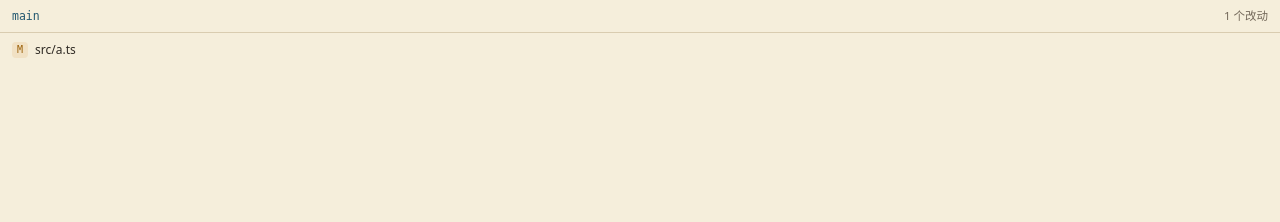
Test: v0.1.2 workbench polish › colorizes git diff lines by hunk, meta, addition and deletion
Click the text "src/a.ts".
click(55, 50)  # box [35,41,76,58]
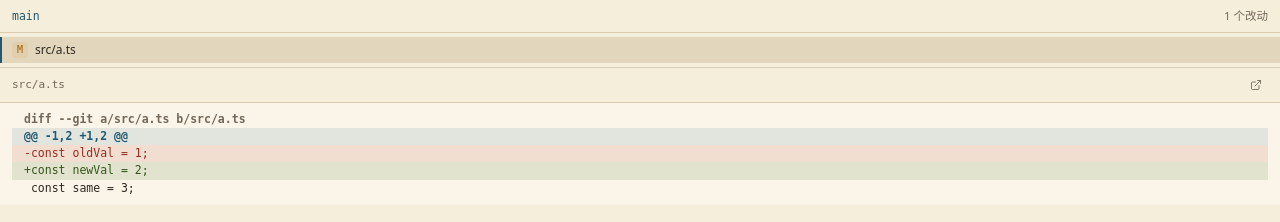
Now the text with class "diff-add" reads "+const newVal = 2;", box [24,163,149,177]
Now the text with class "diff-del" reads "-const oldVal = 1;", box [24,146,149,160]
Now the text with class "diff-hunk" reads "@@ -1,2 +1,2 @@", box [24,129,128,143]
